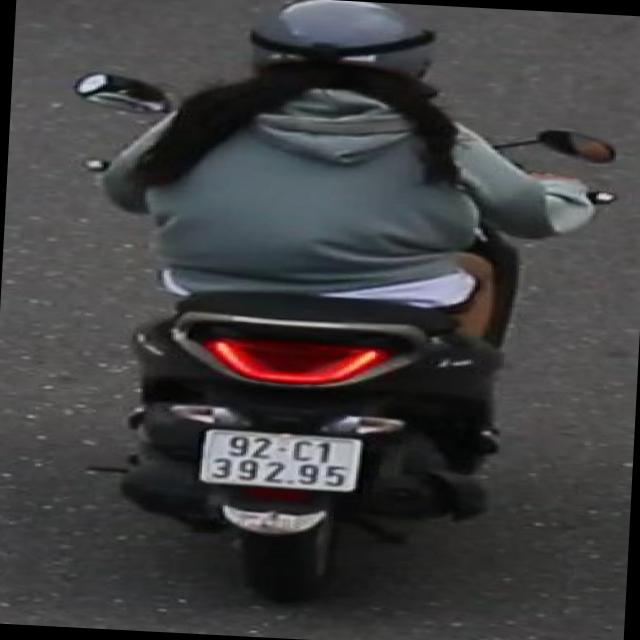LP: (192, 424, 370, 502)
helmet: (241, 0, 453, 97)
